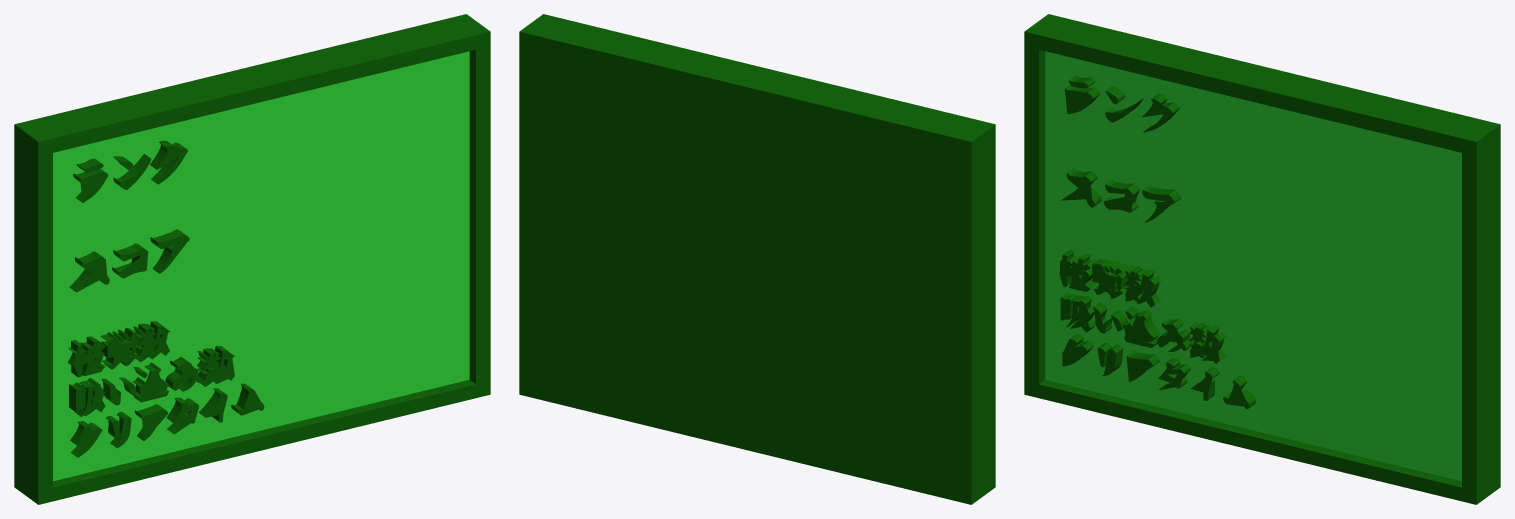
File: ScoreBoad.fbx
The picture shows the model from 3 angles, left to right: view 1: azimuth 30°, elevation 25°; view 2: azimuth 150°, elevation 25°; view 3: azimuth 330°, elevation 25°; orthographic projection.
Parts seen in each view (by area): view 1: 立方体; view 2: 立方体; view 3: 立方体.
Part boxes in pixels (bbox=[...]): 立方体: bbox=[14, 14, 490, 504]; 立方体: bbox=[519, 14, 995, 504]; 立方体: bbox=[1024, 14, 1500, 504].
Bounding box in the file's own units: 1058 × 812 × 99.99.
